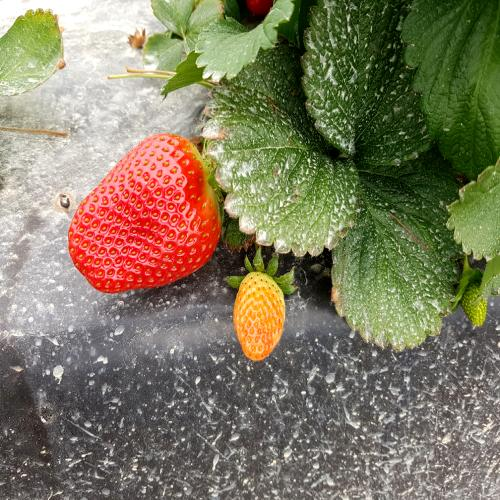ripe: (65, 124, 228, 311)
